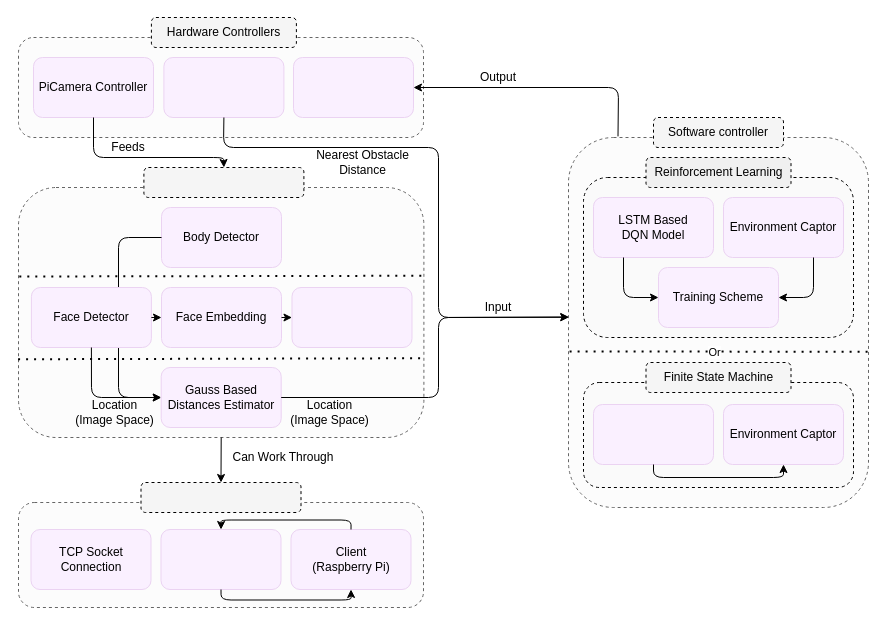
This 887x626 diagram has some shape labels left out. The centre of each missing label's shape, as x and y in pixels:
"Client/Server Architecture" goes at pixel 220 497.
"Computer Vision Pipeline" goes at pixel 223 182.
"Face Recognizer" goes at pixel 351 317.
"Finite State Machine Model" goes at pixel 653 434.
"Motor Controller" goes at pixel 353 87.
"Server (Processing / Visualization)" goes at pixel 220 559.
"SR04 Distance Measurement" goes at pixel 223 87.
